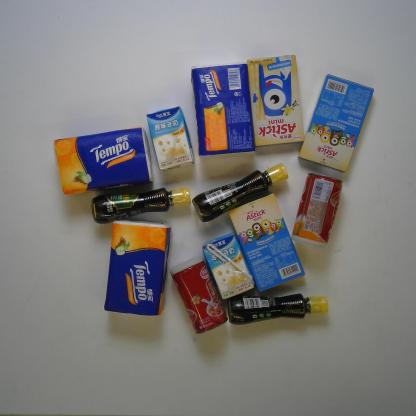Canned Food: (167, 258, 229, 335), (290, 168, 344, 246)
Dessert: (223, 193, 308, 296), (297, 71, 377, 175), (241, 50, 307, 151)
Milk: (200, 234, 256, 301), (144, 106, 196, 174)
Seasoner: (189, 160, 292, 222), (218, 290, 332, 328), (88, 186, 194, 226)
Tissue: (50, 126, 159, 199), (100, 214, 171, 319), (188, 62, 258, 159)
